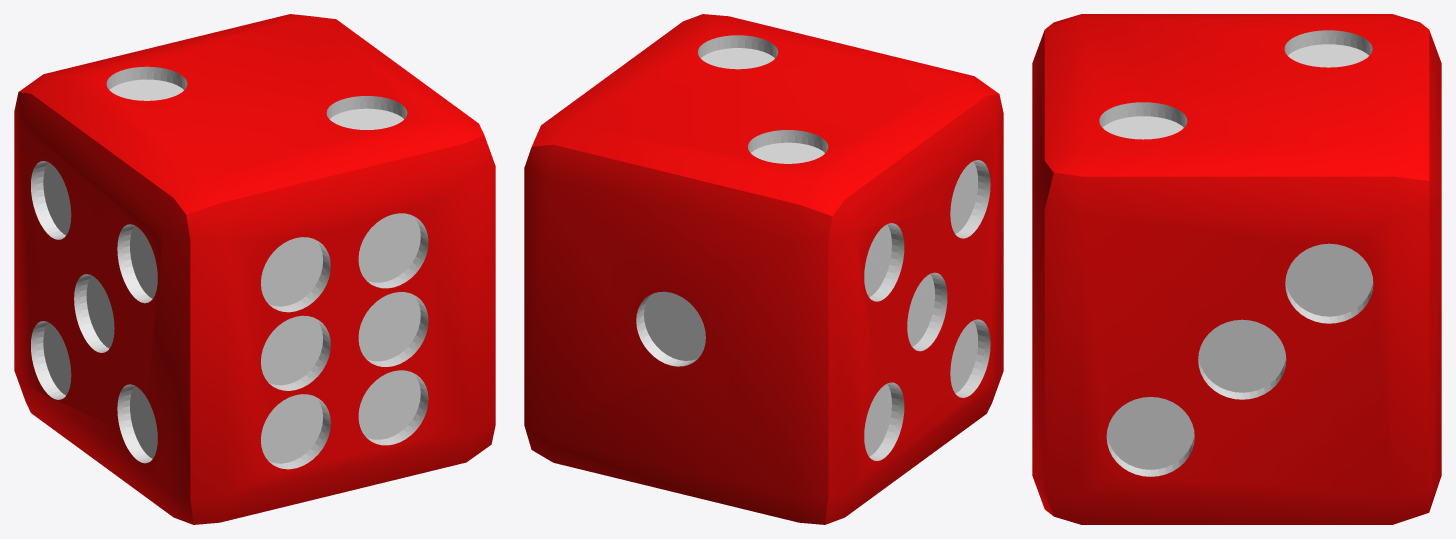
The model's file is dice.fbx.
3 views of the same model, side by side, from view 1: azimuth 30°, elevation 25°; view 2: azimuth 150°, elevation 25°; view 3: azimuth 270°, elevation 25° (orthographic). The views are drawn at different scales.
Parts seen in each view (by area): view 1: Box001; view 2: Box001; view 3: Box001.
Part boxes in pixels (<box>): Box001: <box>14,14,495,524</box>; Box001: <box>524,14,1003,524</box>; Box001: <box>1032,14,1441,524</box>.
Bounding box in the file's own units: 5000 × 5000 × 5000.
